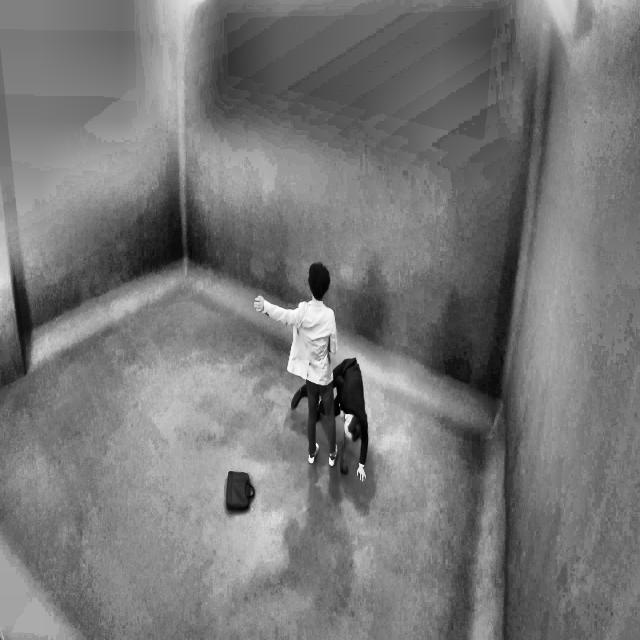assult: (248, 242, 375, 486), (246, 249, 340, 380), (317, 358, 378, 492)
